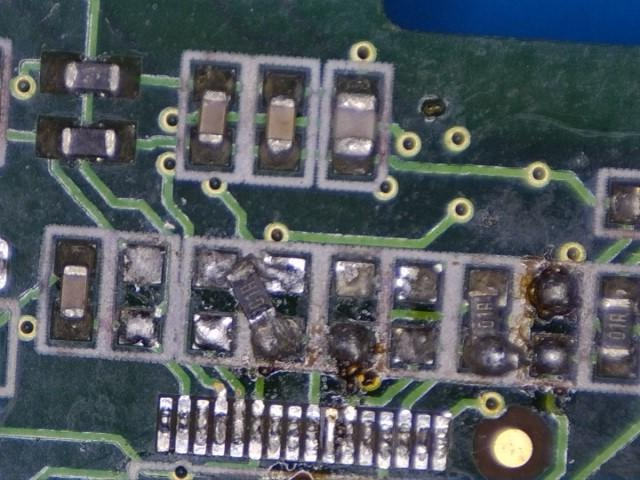pcb_defect: (225, 254, 306, 361), (459, 268, 521, 377), (195, 250, 307, 294)
